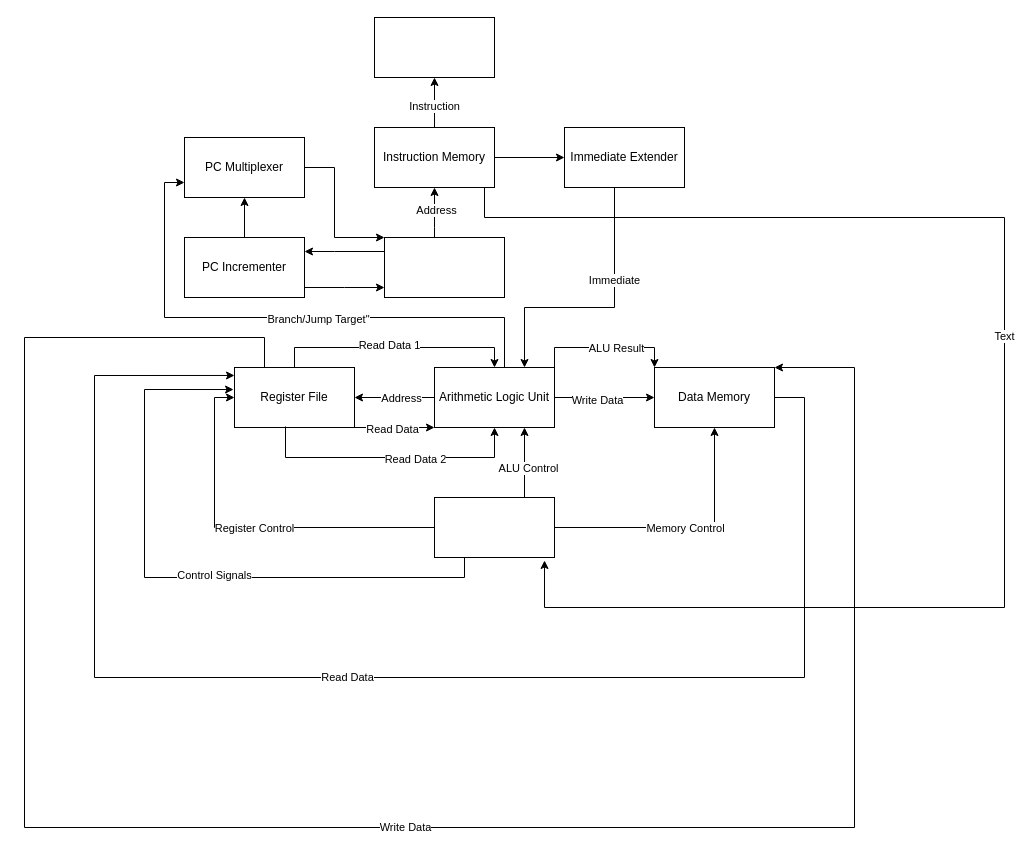
This 1031x853 diagram has some shape labels left out. The centre of each missing label's shape, as x and y in pixels:
Control Unit: (x=494, y=527)
Processor: (x=434, y=47)
Program Counter: (x=444, y=267)
